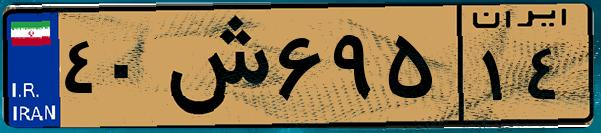0: (110, 28, 158, 98)
1: (475, 38, 525, 113)
4: (57, 26, 110, 100), (525, 38, 570, 115)
5: (385, 28, 445, 110)
6: (270, 28, 330, 110)
9: (330, 28, 385, 110)
ش: (158, 12, 270, 120)
